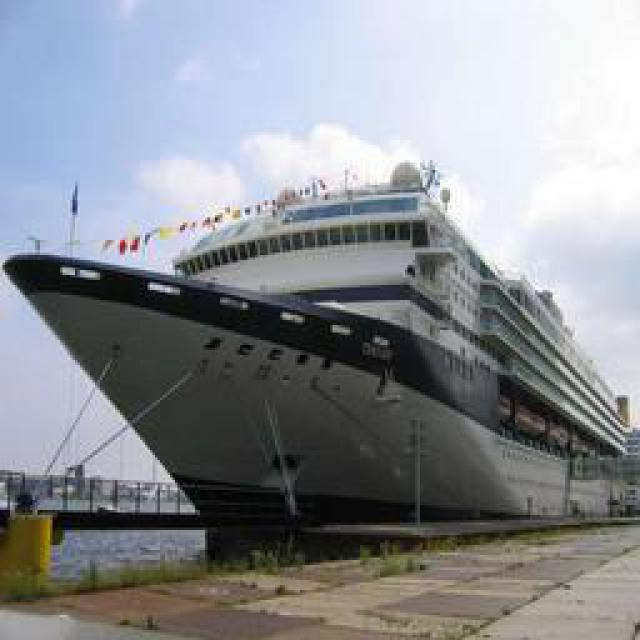Ship: (8, 169, 633, 524)
